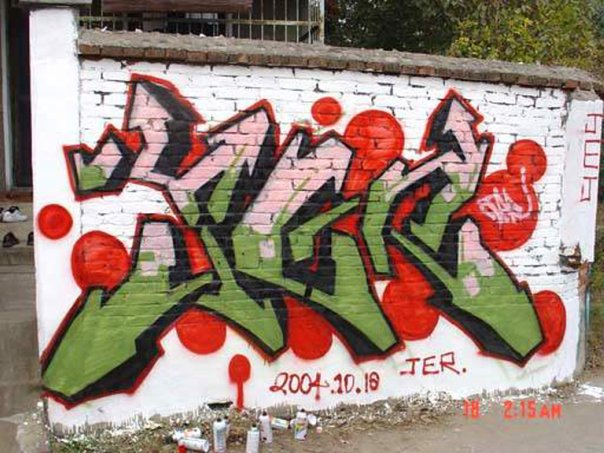graffity: (29, 68, 584, 414)
